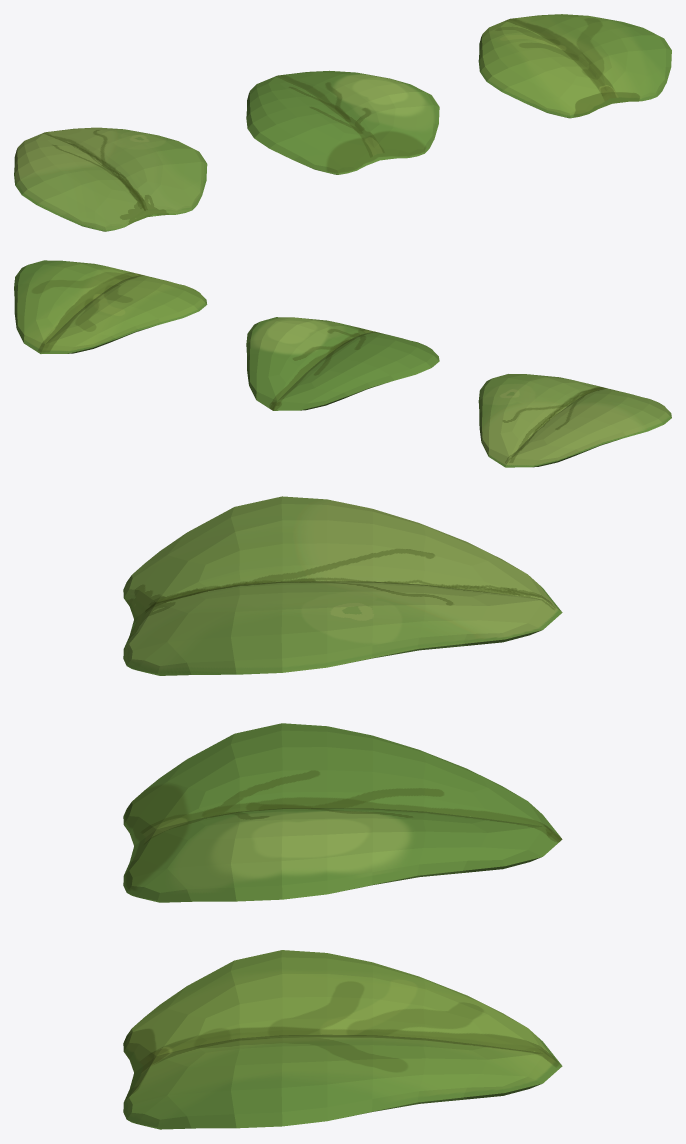
The model's file is Leafs.fbx.
The picture shows the model from 3 angles, top to bottom: view 1: azimuth 30°, elevation 25°; view 2: azimuth 150°, elevation 25°; view 3: azimuth 270°, elevation 25°; orthographic projection. The views are drawn at different scales.
Visible parts, largest first — view 1: Leaf2, Leaf3, Leaf1; view 2: Leaf3, Leaf2, Leaf1; view 3: Leaf3, Leaf1, Leaf2.
Part boxes in pixels (x1,y1,x2,y2): Leaf2: [14, 127, 207, 231]; Leaf3: [478, 14, 671, 118]; Leaf1: [246, 70, 439, 174]; Leaf3: [14, 260, 207, 353]; Leaf2: [478, 374, 671, 467]; Leaf1: [246, 317, 439, 410]; Leaf3: [123, 950, 562, 1129]; Leaf1: [123, 723, 562, 902]; Leaf2: [123, 496, 562, 675].
Size of the model in its own units: 553 by 25.82 by 164.
Materials: 1 (1 with a texture image).
